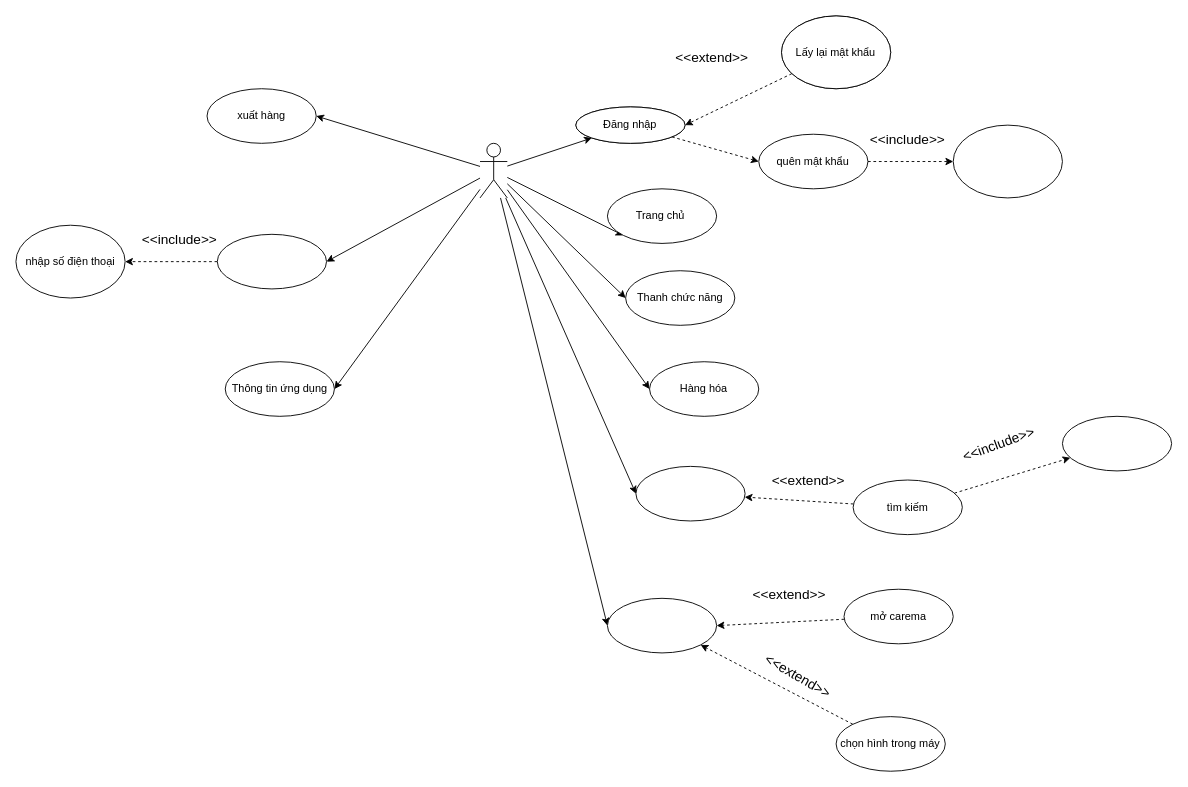
This 1188x787 diagram has some shape labels left out. Each missing label, with the centre of its shape:
Kiểm kho: the point at 690,493
người dùng: the point at 493,170
Nhập email: the point at 1007,161
Nhập hàng: the point at 662,625
Nhập tên sản phẩm: the point at 1117,443
tra cứu bảo hành: the point at 271,261
